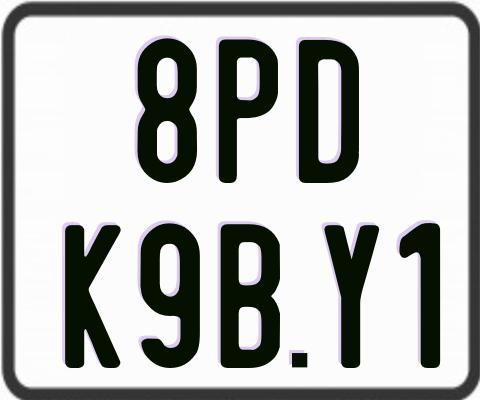1: (399, 222, 440, 373)
8: (135, 37, 201, 185)
9: (137, 222, 203, 371)
B: (220, 222, 282, 371)
D: (299, 38, 364, 187)
K: (64, 224, 126, 369)
P: (219, 38, 282, 185)
Y: (321, 222, 378, 370)
